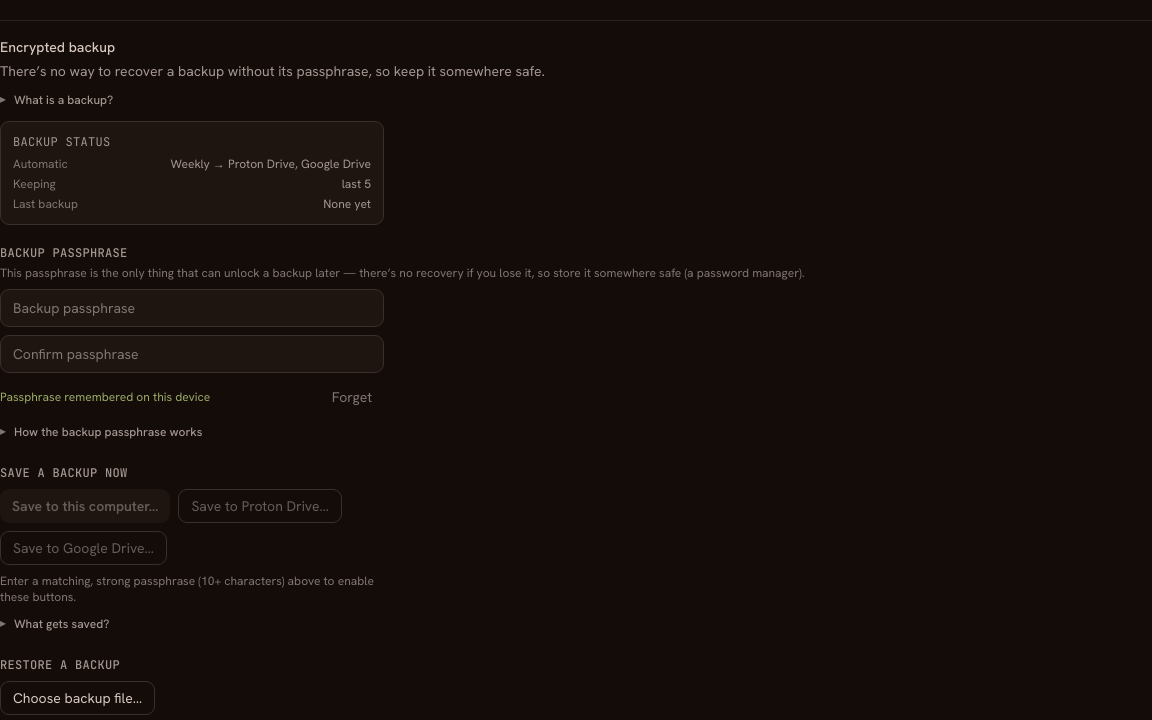
Test: Forget the backup passphrase › cancelling leaves the passphrase alone
Expected: the text "Passphrase remembered on this device" is shown, left=0, top=389, right=210, bottom=405
Click the button "Forget" at (352, 397), box left=320, top=381, right=384, bottom=413
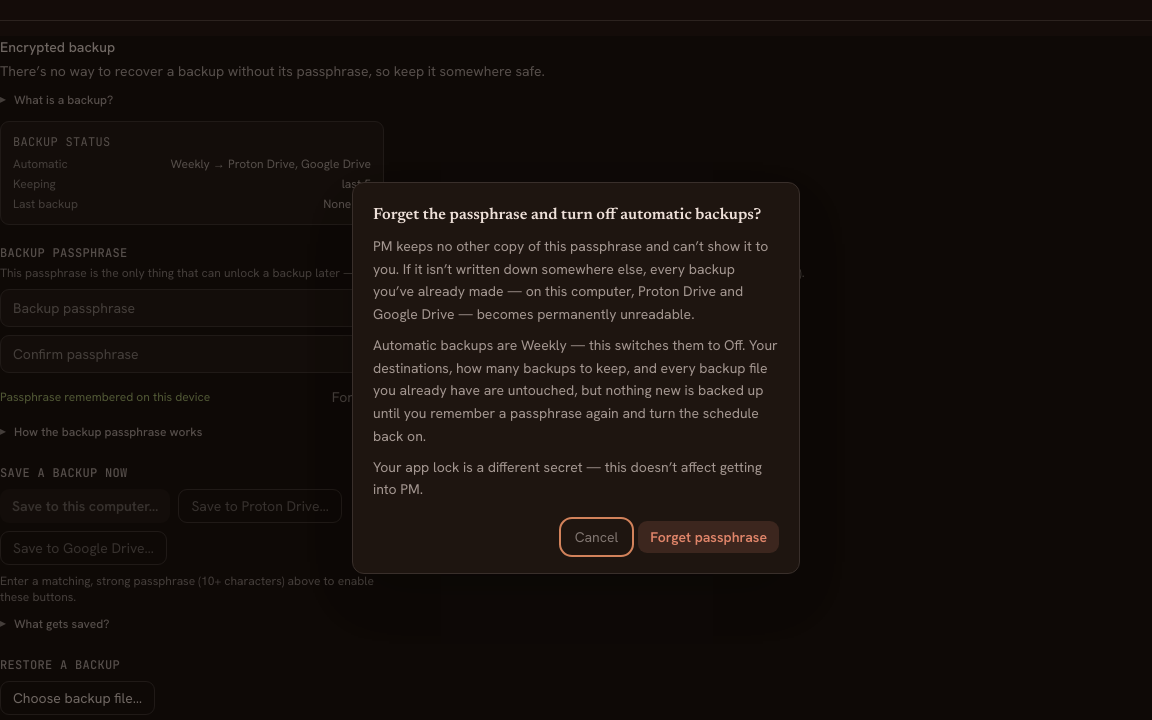
Click the button "Cancel" at (596, 537), box left=563, top=521, right=630, bottom=553
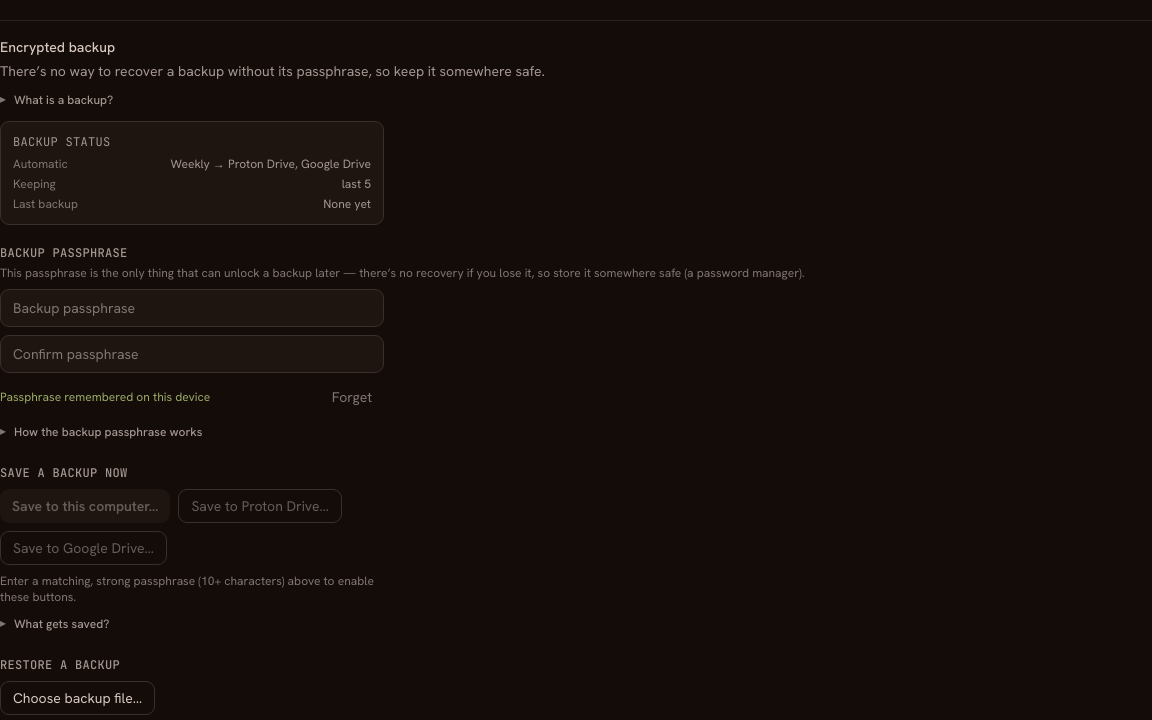
Result: the dialog is gone
